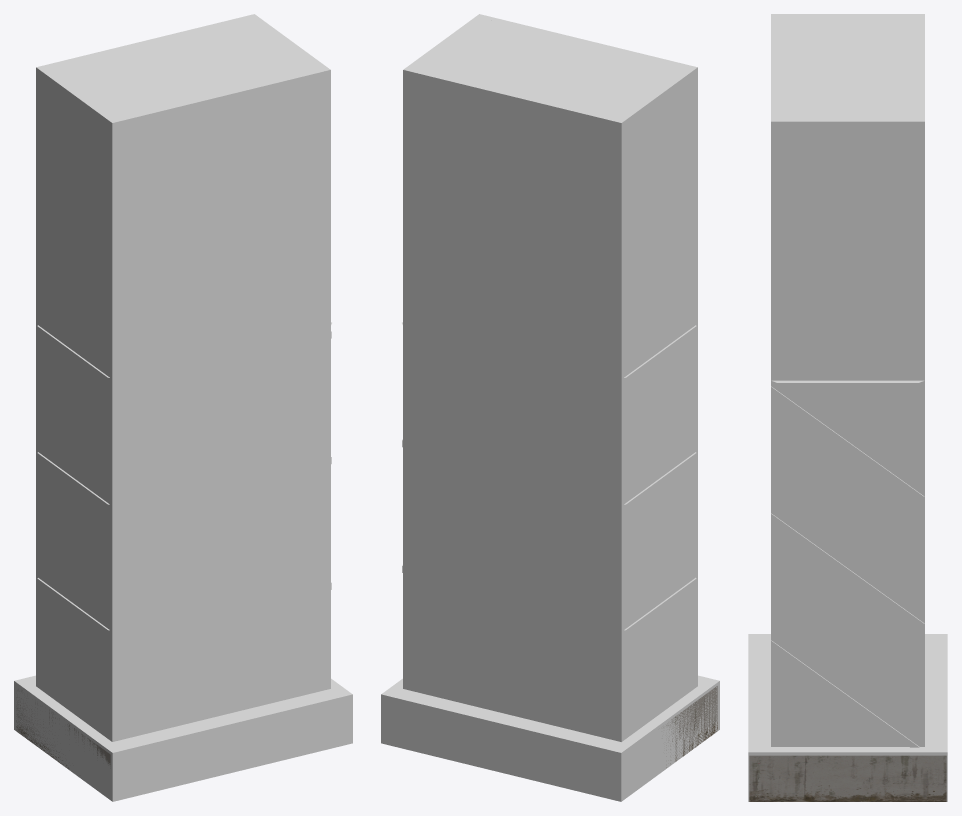
Rendered from s_quarry_distributor_02.dae.
The picture shows the model from 3 angles, left to right: view 1: azimuth 30°, elevation 25°; view 2: azimuth 150°, elevation 25°; view 3: azimuth 270°, elevation 25°; orthographic projection.
Visible parts, largest first — view 1: Colmesh-1, s_quarry_distributor_02_a300; view 2: Colmesh-1, s_quarry_distributor_02_a300; view 3: Colmesh-1, s_quarry_distributor_02_a150, s_quarry_distributor_02_a300.
Boxes of the visible parts, left/top/right/bottom form: Colmesh-1: left=14, top=14, right=352, bottom=801; s_quarry_distributor_02_a300: left=16, top=14, right=331, bottom=768; Colmesh-1: left=381, top=14, right=719, bottom=801; s_quarry_distributor_02_a300: left=402, top=14, right=717, bottom=767; Colmesh-1: left=748, top=14, right=947, bottom=801; s_quarry_distributor_02_a150: left=749, top=755, right=946, bottom=801; s_quarry_distributor_02_a300: left=771, top=15, right=924, bottom=747.
Bounding box in the file's own units: 4 × 2.85 × 10.63.
